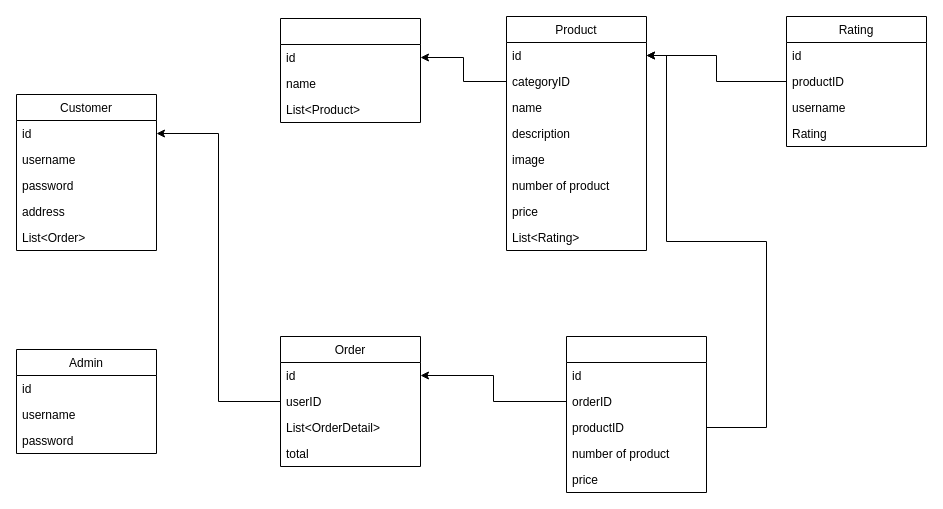
Some shapes in this 943 by 509 pixel diagram are drawn without their labels. Each missing label, with the box of its shape:
Category: (280, 18, 420, 122)
OrderDetail: (566, 336, 706, 492)
